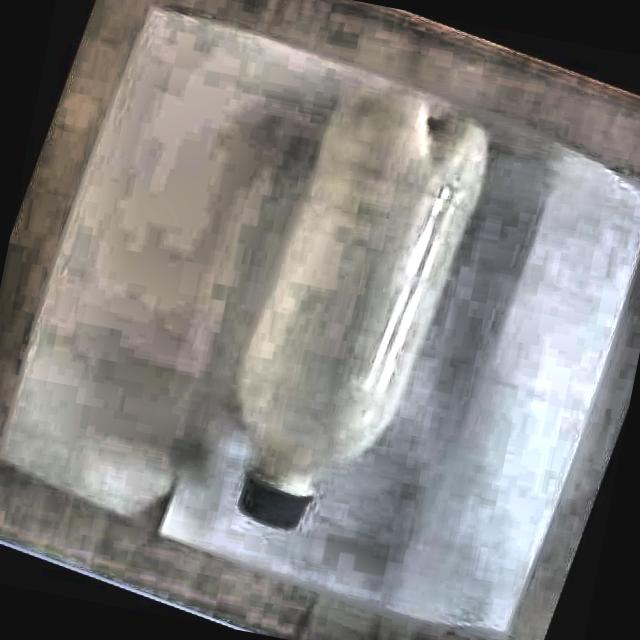plastic bottle: (237, 87, 488, 530)
